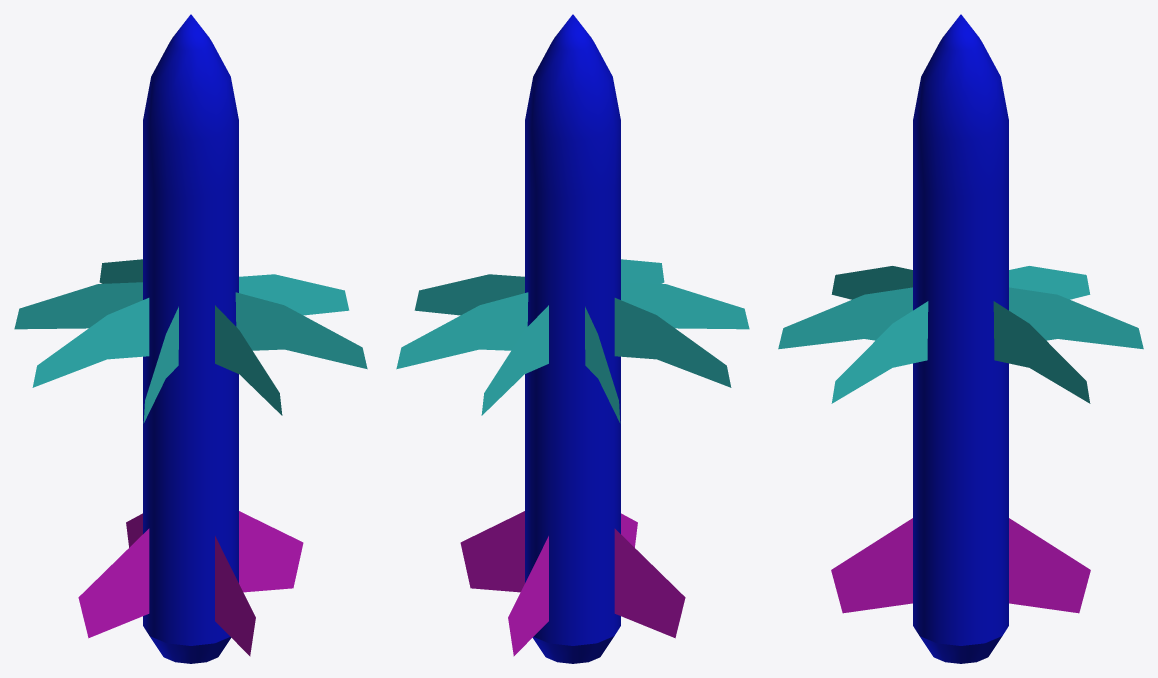
The model's file is missile.fbx.
3 views of the same model, side by side, from view 1: azimuth 30°, elevation 25°; view 2: azimuth 150°, elevation 25°; view 3: azimuth 270°, elevation 25° (orthographic).
Visible parts, largest first — view 1: Cylinder; view 2: Cylinder; view 3: Cylinder.
Boxes of the visible parts, x1=… form: Cylinder: x1=14, y1=14, x2=367, y2=663; Cylinder: x1=396, y1=14, x2=749, y2=663; Cylinder: x1=778, y1=14, x2=1143, y2=663.
Bounding box in the file's own units: 762 × 1463 × 762.
